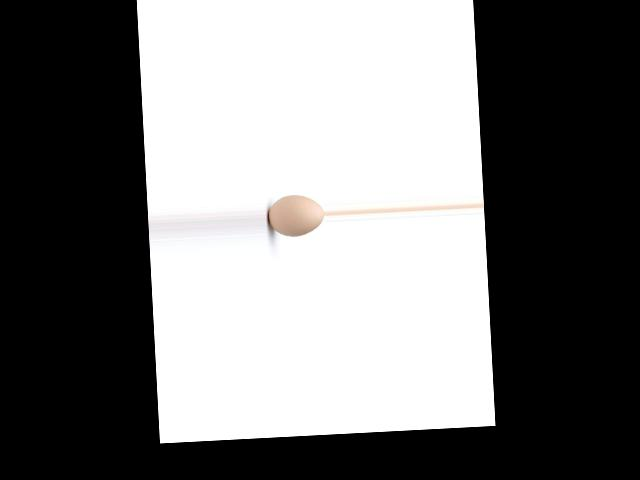egg: (267, 193, 324, 237)
